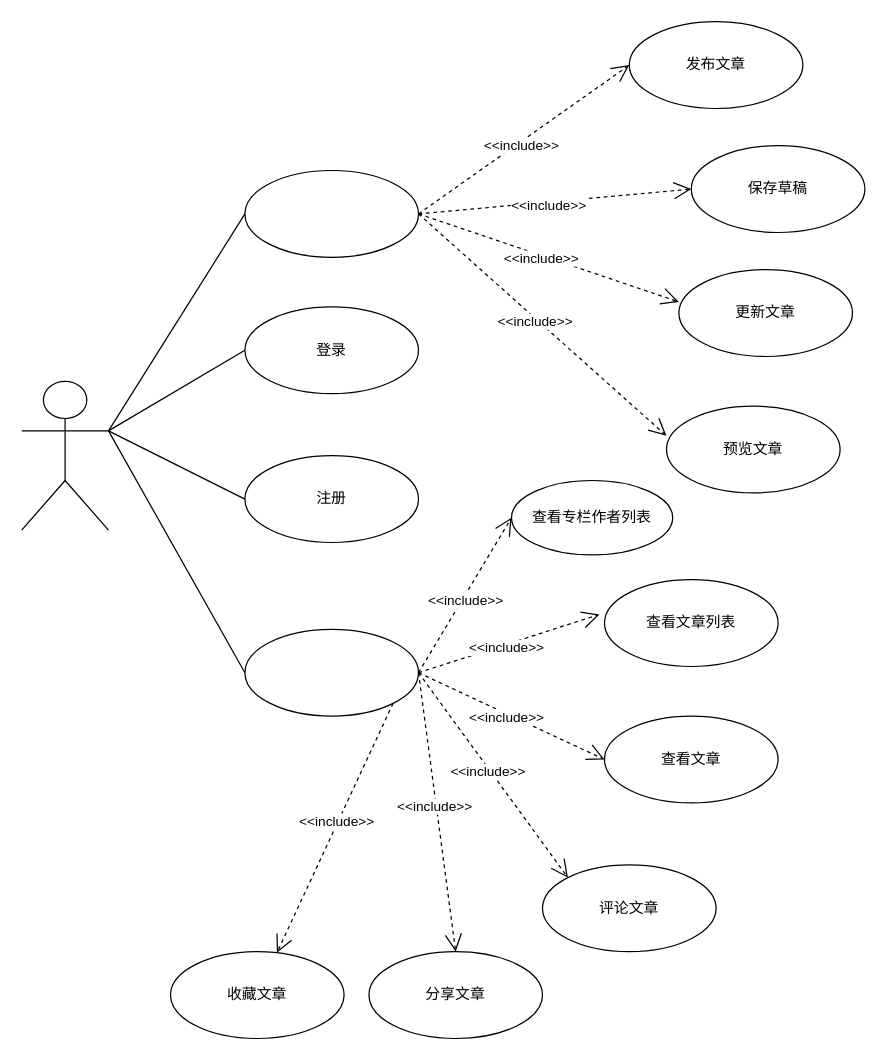
This 887x1060 diagram has some shape labels left out. Here are the shapes that lost their labels. From the top down, the centre of each, then its label:
At point (331, 213): "编辑文章".
At point (64, 455): "用户".
At point (331, 672): "浏览文章".
